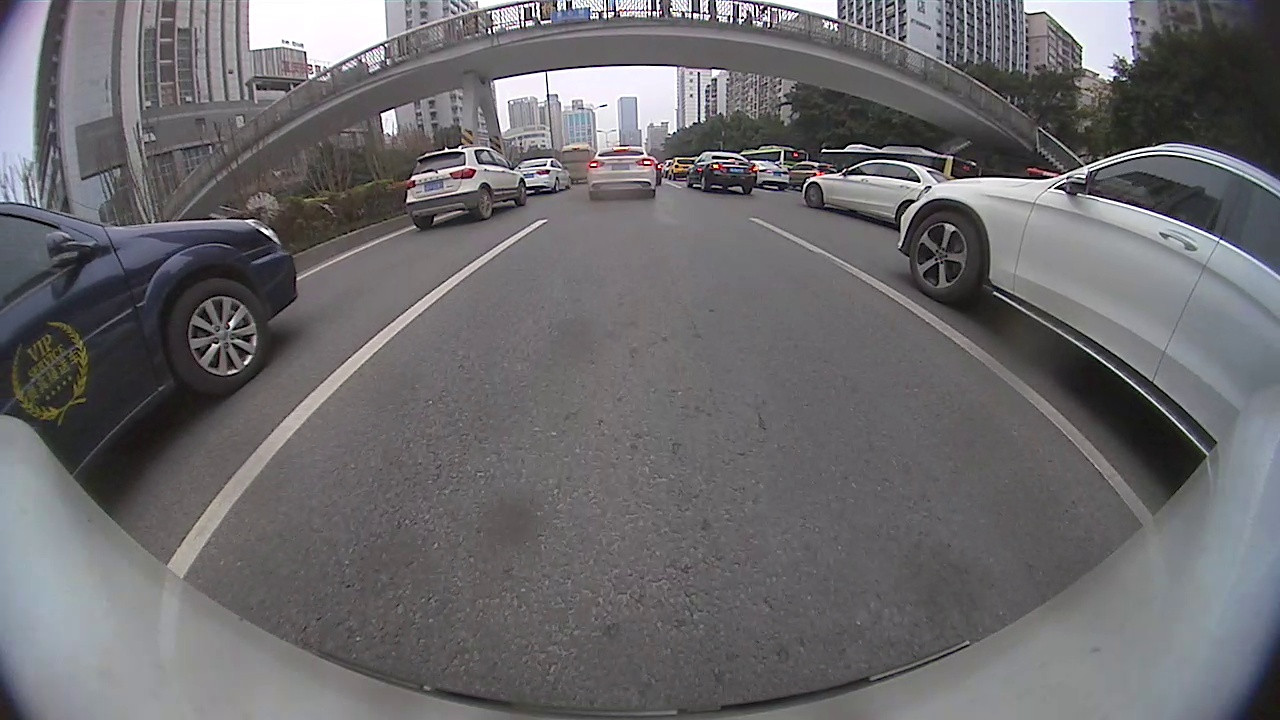car: (896, 145, 1277, 461), (2, 200, 303, 474), (403, 147, 528, 230), (802, 163, 947, 227), (590, 145, 660, 198), (688, 150, 759, 198)
front: (167, 277, 272, 396), (909, 212, 984, 304), (804, 183, 825, 209), (518, 179, 528, 206)
rear: (476, 188, 495, 219)
